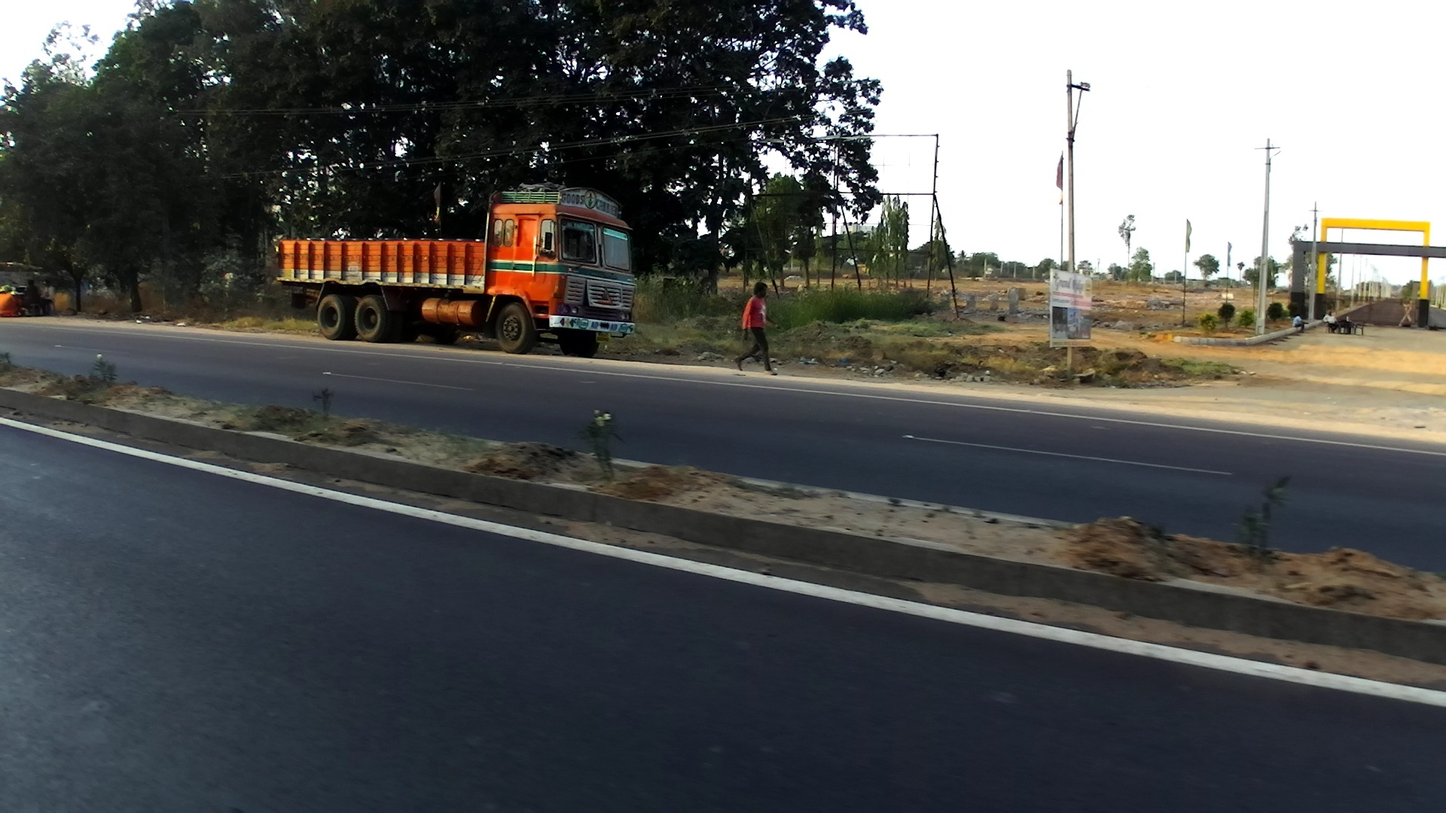motorcycle: (1, 260, 44, 318)
person: (732, 281, 775, 375), (41, 273, 57, 319), (1289, 310, 1310, 335), (1321, 309, 1341, 333)
rider: (17, 279, 42, 319)
truck: (279, 181, 637, 358)
